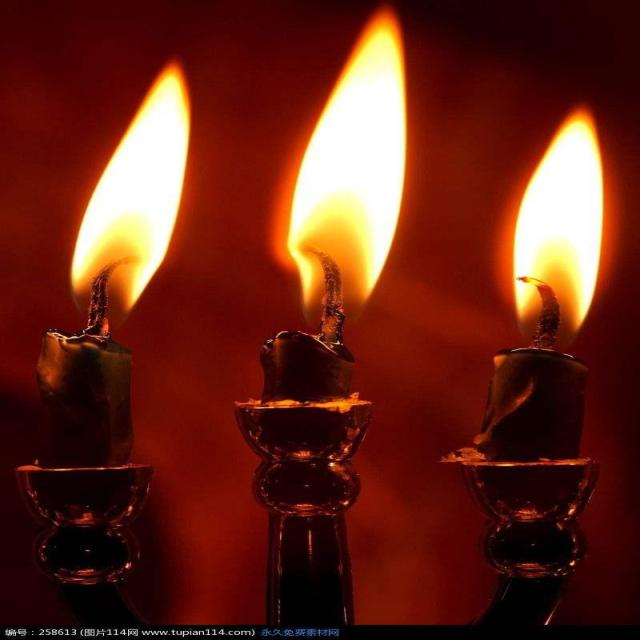fire: (273, 11, 424, 335), (51, 46, 195, 325), (491, 83, 612, 345)
